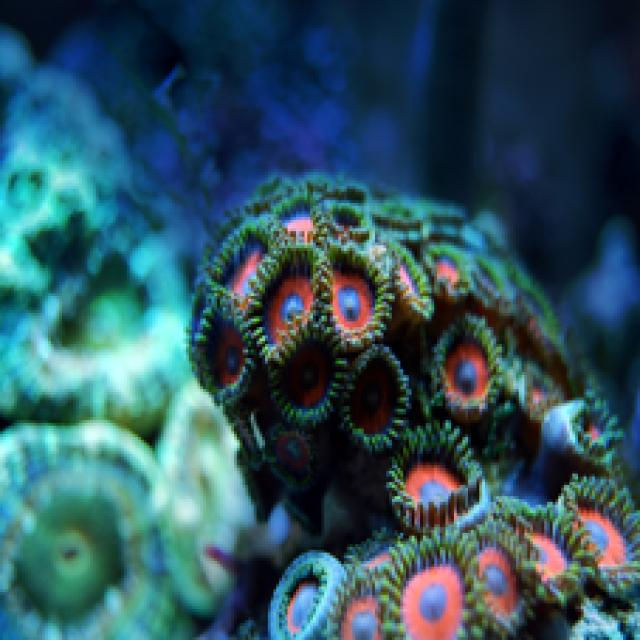Healthy: (193, 179, 638, 638)
